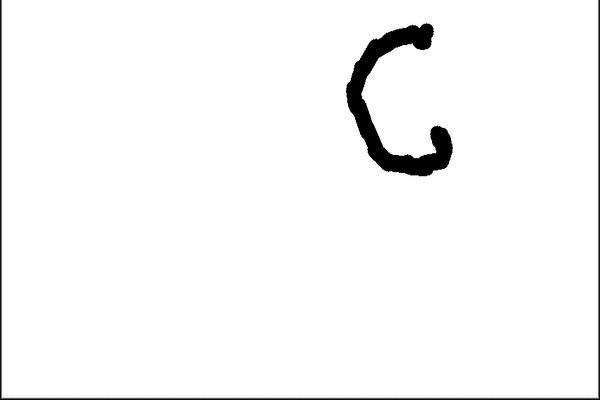C: (340, 18, 460, 179)
